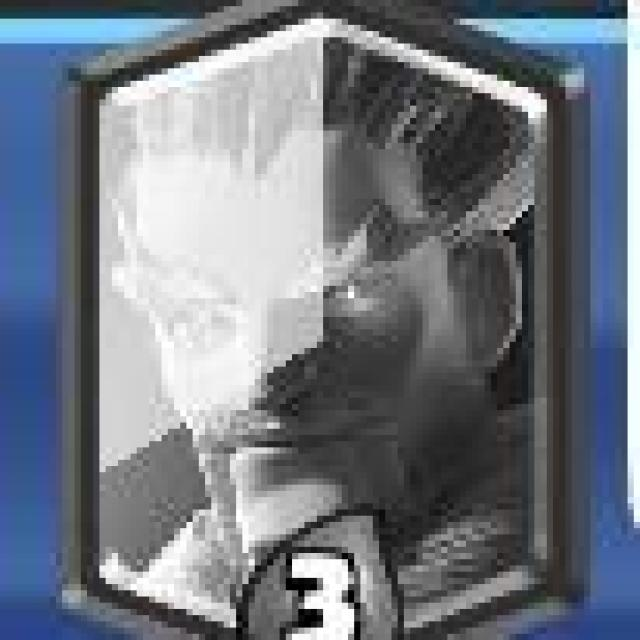Ice_Wizard: (71, 1, 573, 632)
